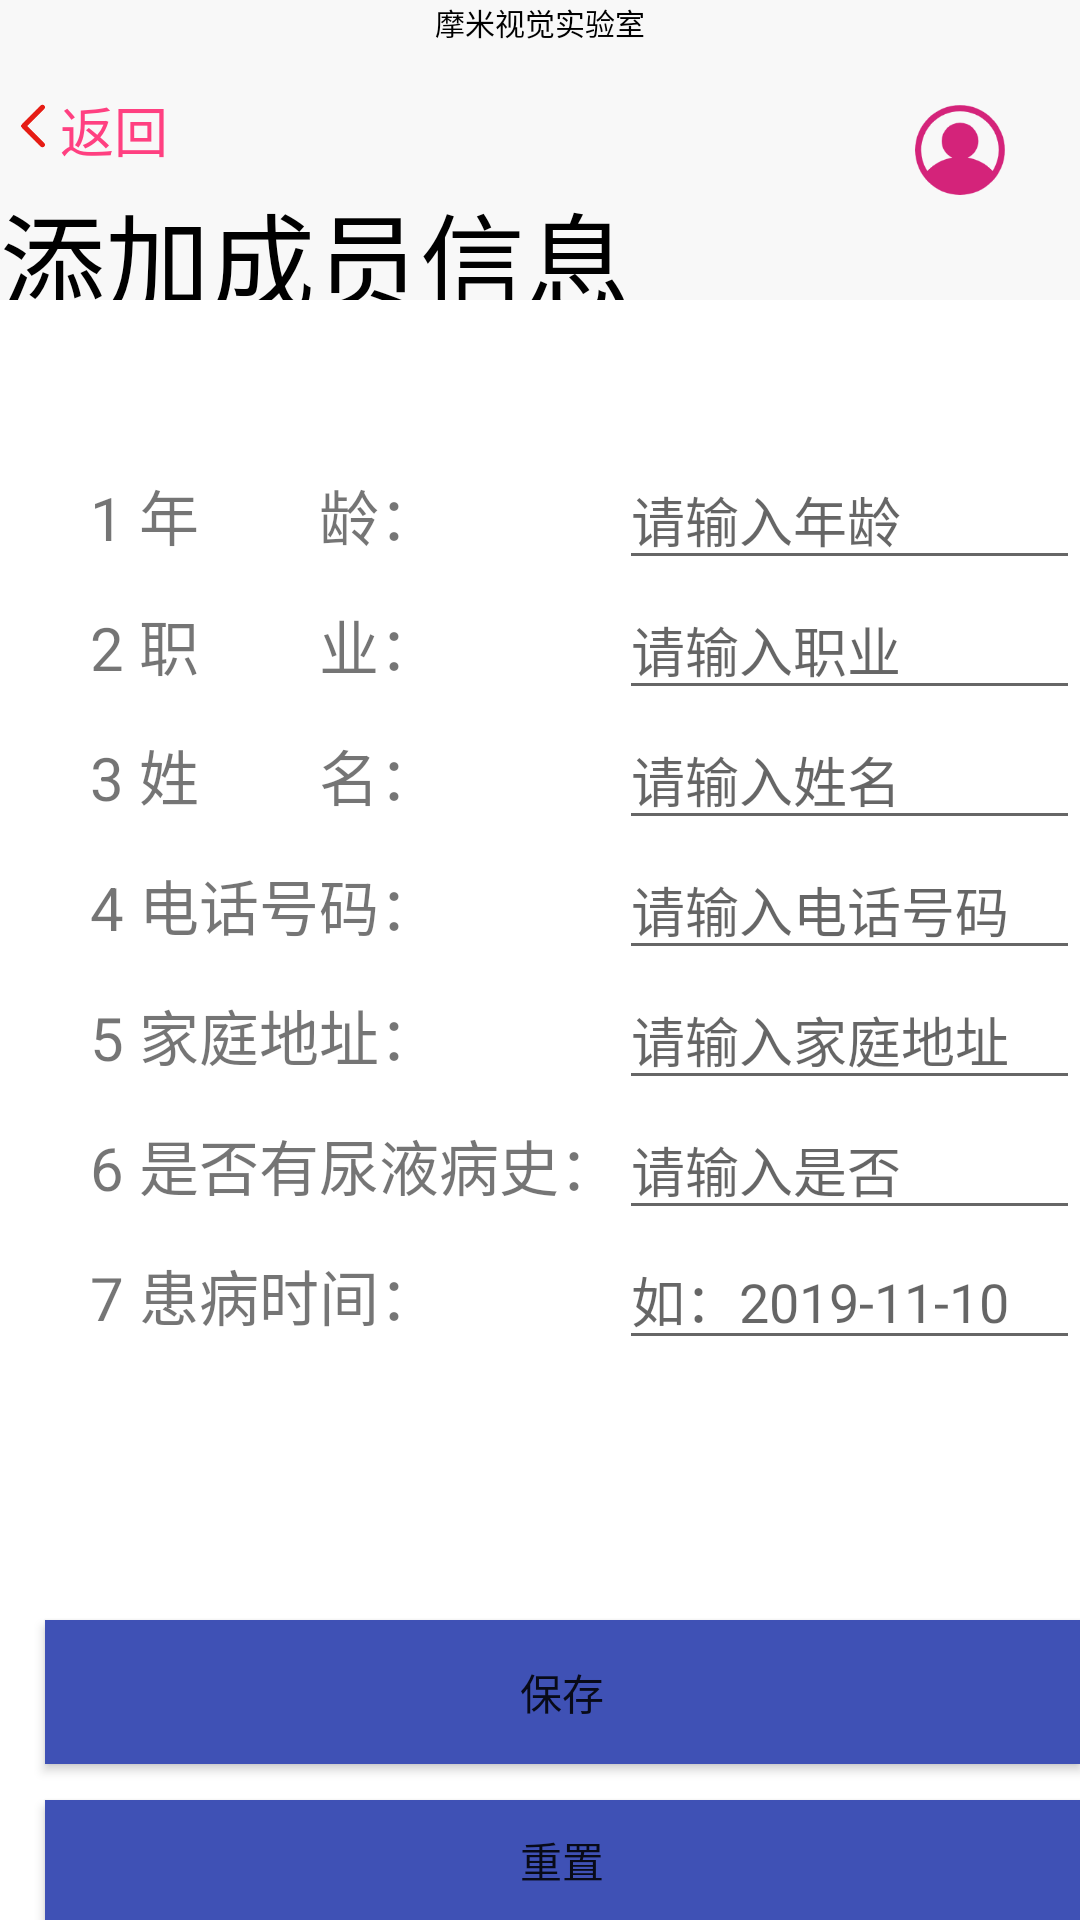

Icons on this 1080w x 1920h Android screen, each with the point to tap as (x=x, y=y):
head: (x=960, y=150)
pointleft: (x=33, y=126)
